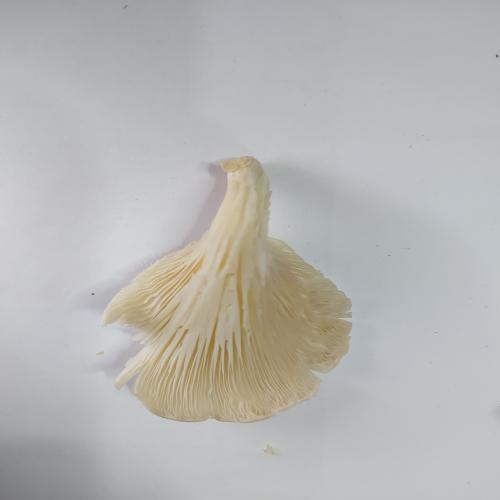Oyster Mushroom: (101, 155, 354, 424)
